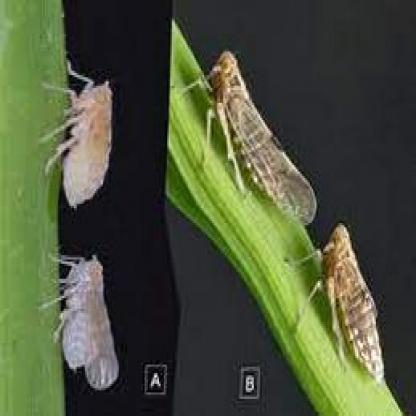brown-planthopper: (207, 46, 311, 223), (319, 226, 387, 384), (60, 253, 118, 390), (59, 71, 114, 209)
